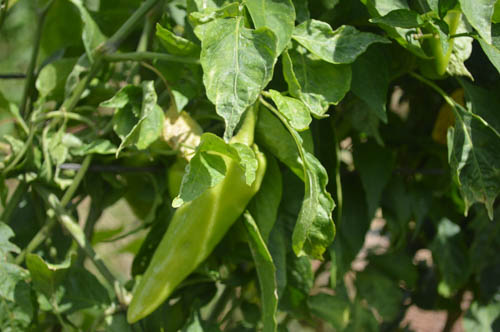ChiliPepper: (124, 151, 263, 328)
